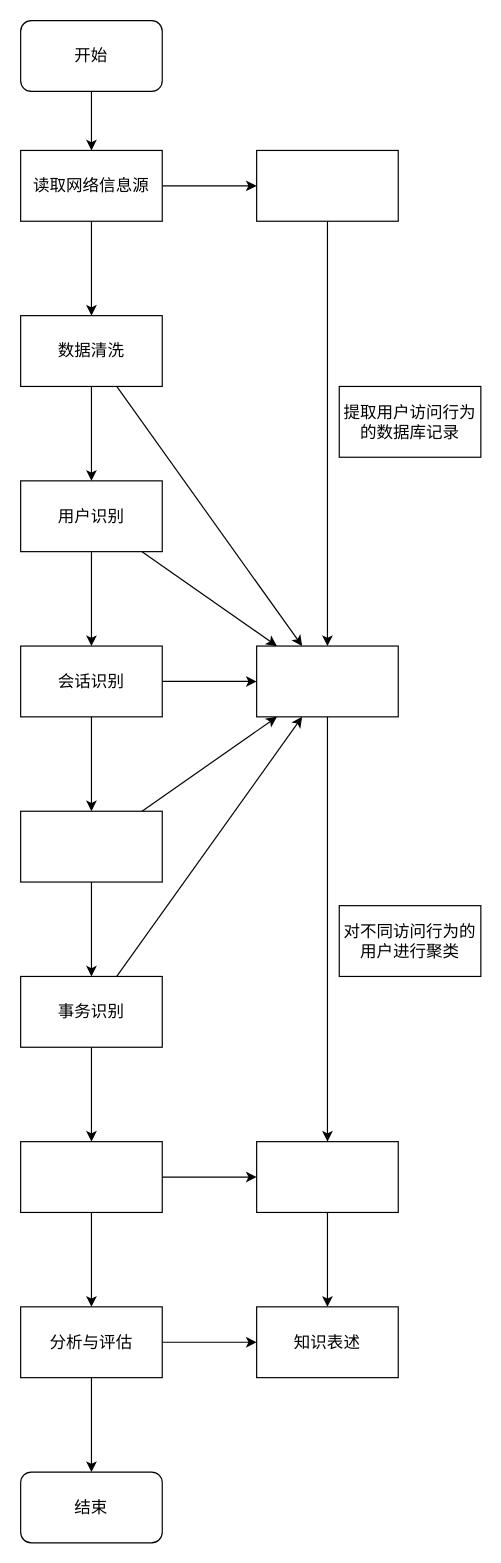
Some shapes in this 501 by 1563 pixel diagram are drawn without their labels. Each missing label, with the centre of its shape:
建立挖掘模型: the point at 90,1176
数据取样: the point at 326,185
数据挖掘: the point at 326,1176
数据预处理: the point at 326,681
路径补充: the point at 90,846
